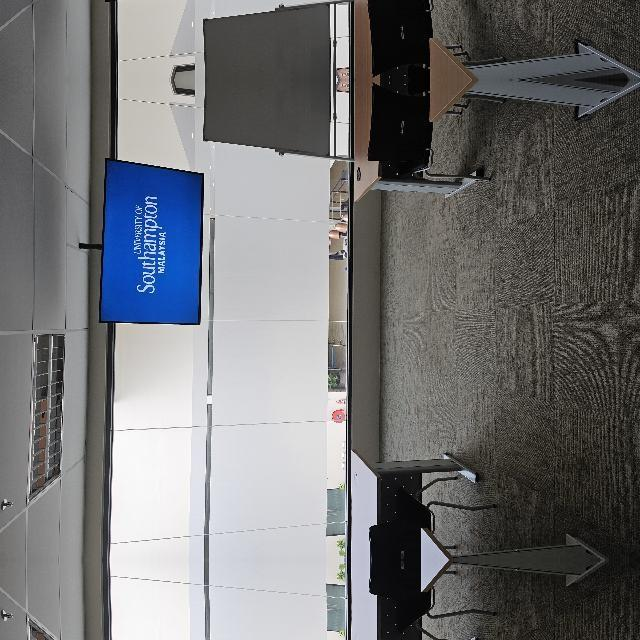obstacle: (356, 430, 478, 570), (1, 428, 113, 562), (355, 550, 478, 640), (1, 558, 113, 640)
